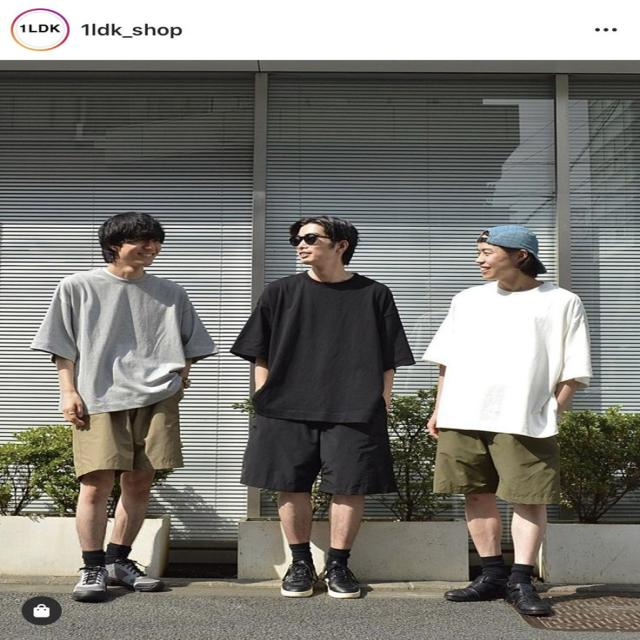person: (29, 211, 219, 602), (230, 215, 416, 598), (422, 224, 593, 616)
